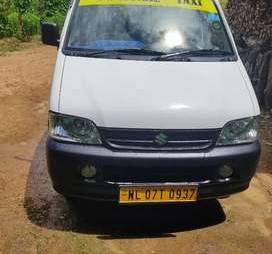NL07T0937: (119, 186, 197, 202)
